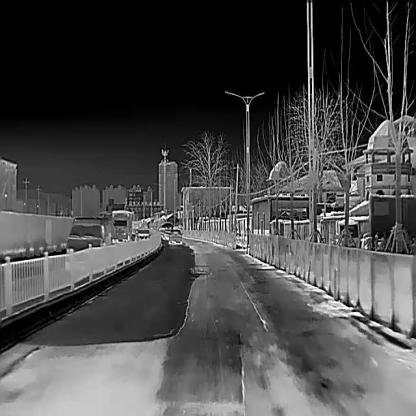bus: (168, 229, 182, 245)
car: (65, 218, 108, 266), (134, 228, 150, 240)
truck: (110, 210, 132, 243)
